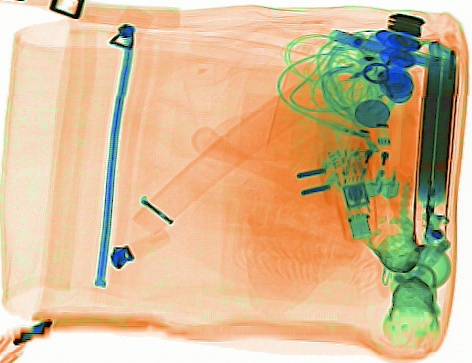lighter: (361, 101, 399, 200), (344, 107, 382, 203)
